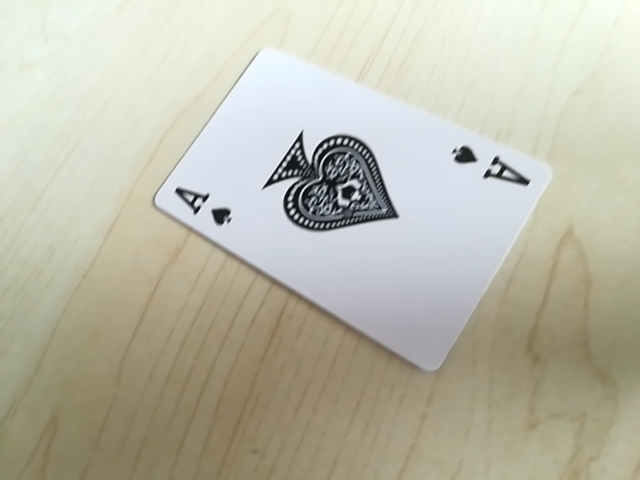ht a: (442, 138, 534, 194), (164, 182, 240, 234)
